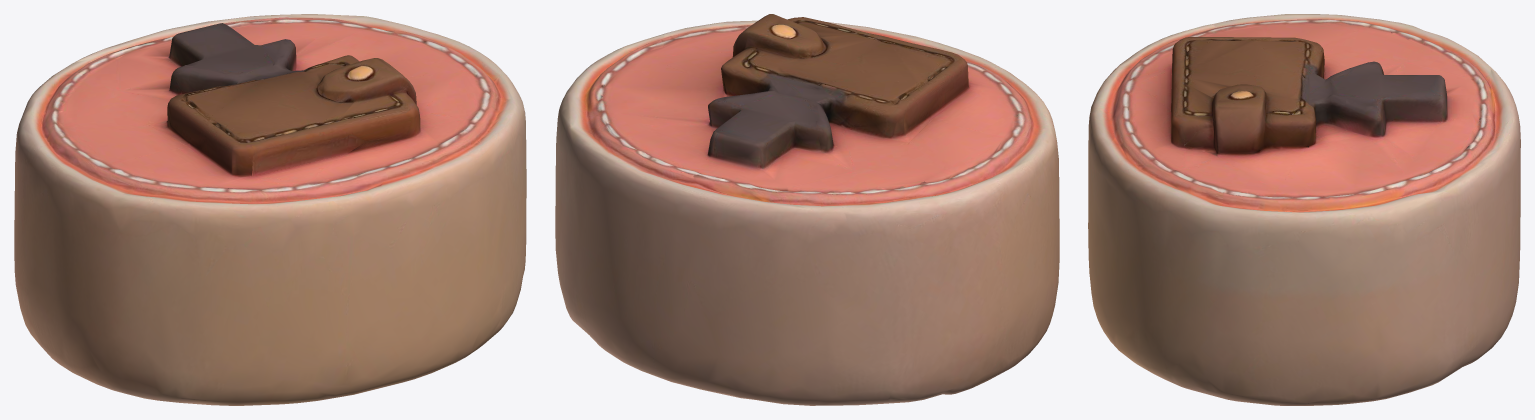
Rendered from space-expense.glb.
3 renders of one model, left to right at view 1: azimuth 30°, elevation 25°; view 2: azimuth 150°, elevation 25°; view 3: azimuth 270°, elevation 25°, orthographic. The views are drawn at different scales.
Visible parts, largest first — view 1: Mesh_0; view 2: Mesh_0; view 3: Mesh_0.
Part boxes in pixels (<box>): Mesh_0: <box>14,14,526,405</box>; Mesh_0: <box>555,14,1059,405</box>; Mesh_0: <box>1088,14,1520,405</box>.
Size of the model in its own units: 2 by 1.09 by 1.74.
1 material, 1 textured.
